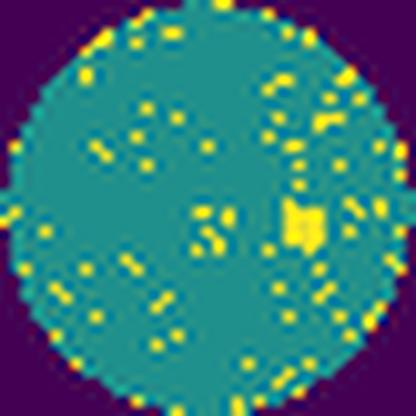Loc: (280, 199, 327, 256)
